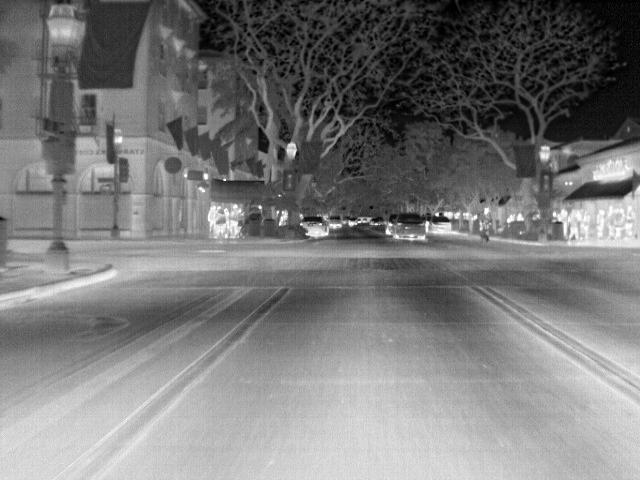car: (392, 213, 428, 244), (297, 218, 328, 239), (430, 214, 454, 232), (383, 213, 398, 235), (323, 214, 342, 228), (344, 215, 359, 226), (369, 215, 383, 226)
person: (565, 208, 581, 242), (228, 203, 243, 237), (623, 204, 636, 236), (595, 208, 608, 240), (208, 204, 219, 230)
